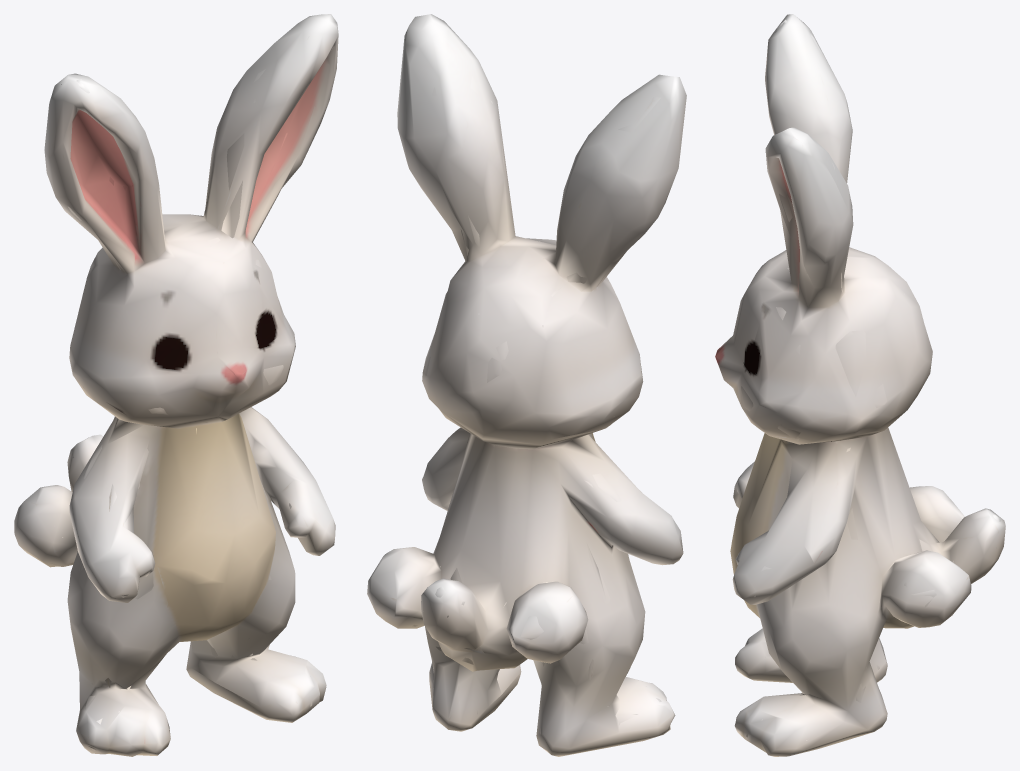
File: audience-white-rabbit.glb
3 renders of one model, left to right at view 1: azimuth 30°, elevation 25°; view 2: azimuth 150°, elevation 25°; view 3: azimuth 270°, elevation 25°, orthographic. The views are drawn at different scales.
Parts seen in each view (by area): view 1: audience-white-rabbit; view 2: audience-white-rabbit; view 3: audience-white-rabbit.
Part boxes in pixels (box(x1,y1,x2,y2)): audience-white-rabbit: box(14, 14, 338, 756); audience-white-rabbit: box(367, 14, 686, 756); audience-white-rabbit: box(715, 14, 1005, 756).
Bounding box in the file's own units: 0.4376 × 1 × 0.4163.
Materials: 1 (1 with a texture image).
